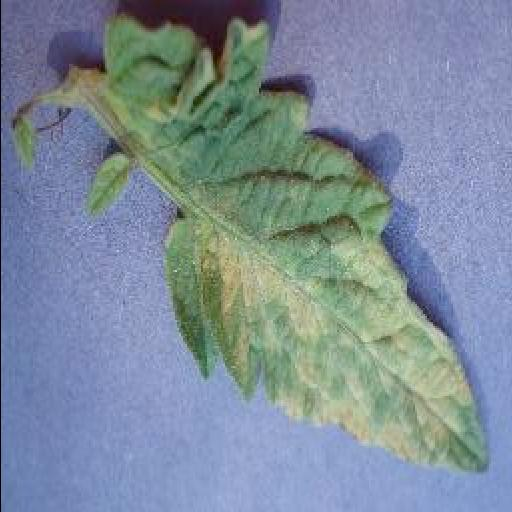disease_tomato: (104, 20, 490, 472)
